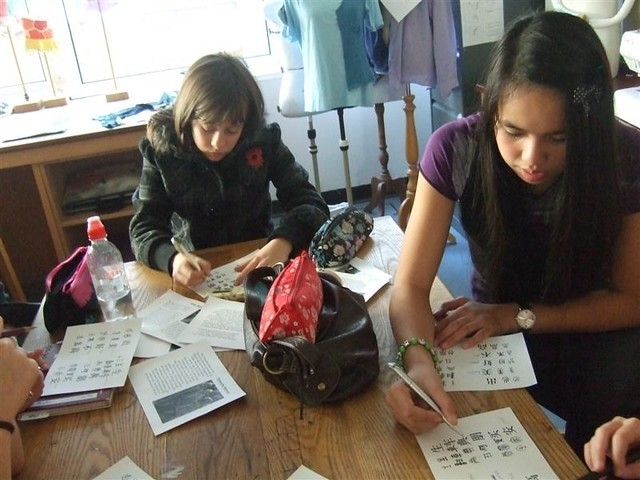face_no_mask: (482, 12, 614, 183), (173, 54, 266, 161)
